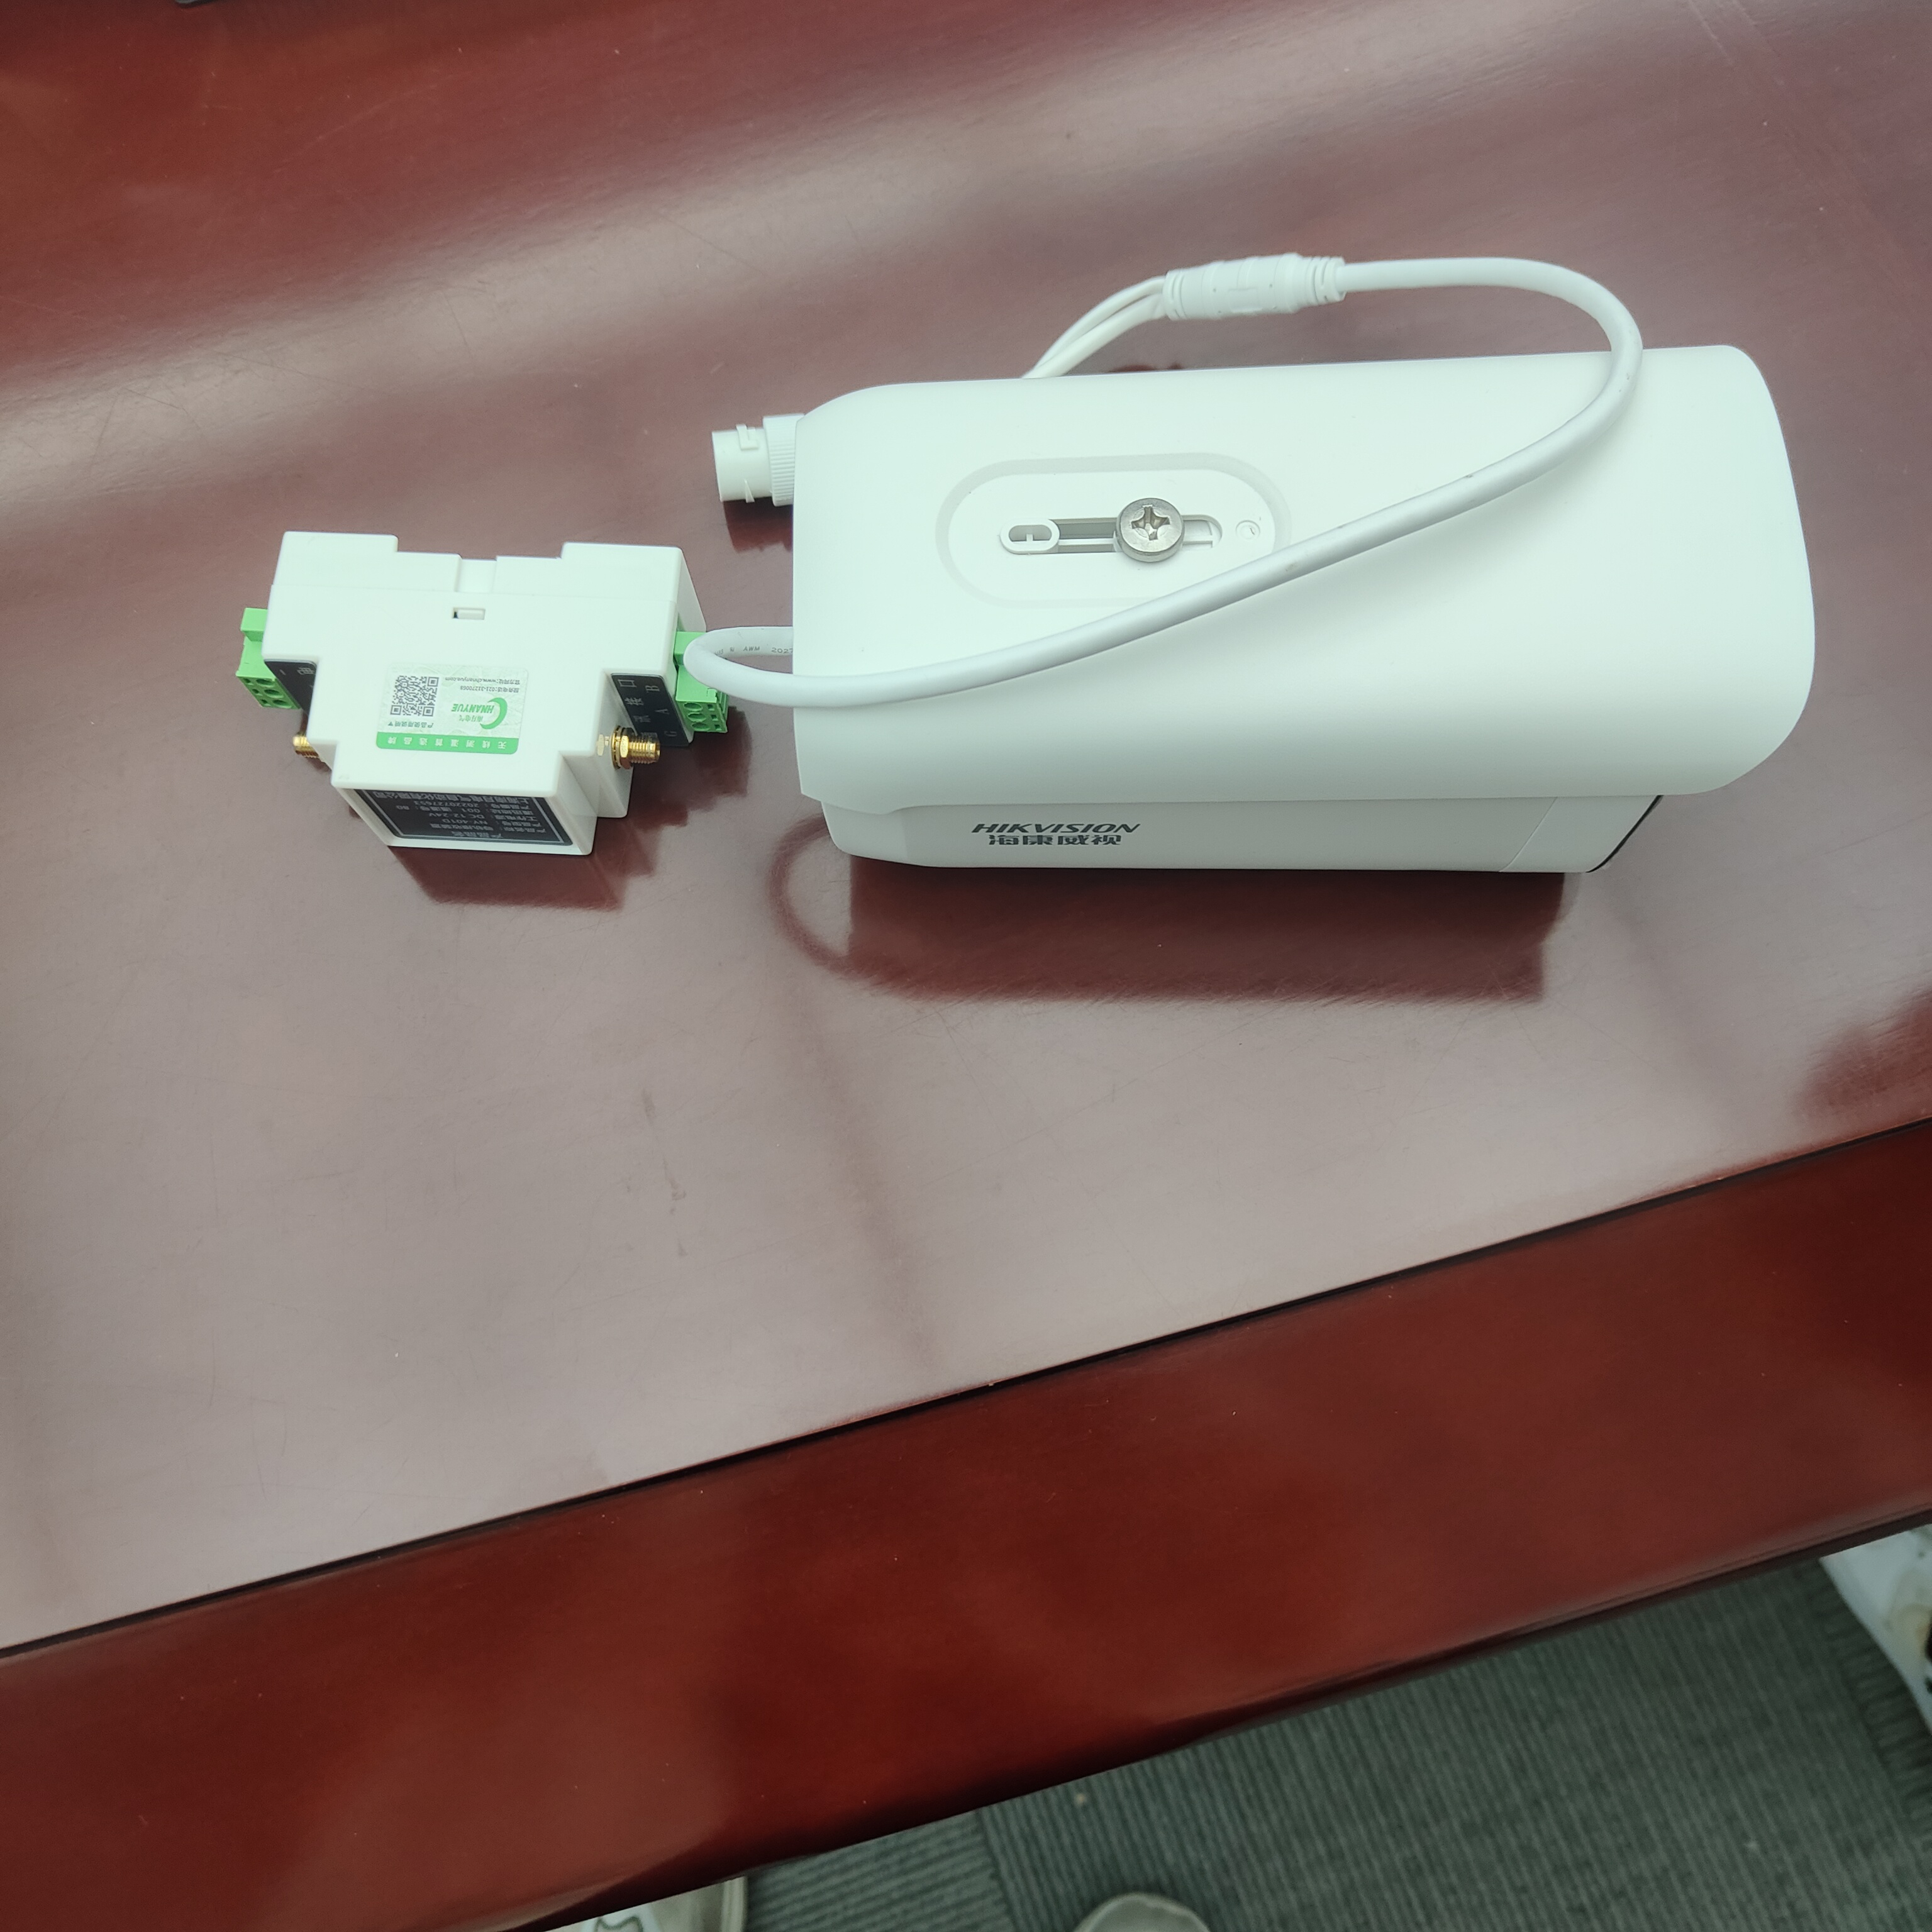dgjs: (225, 508, 734, 886)
hkws: (759, 350, 1819, 975)
